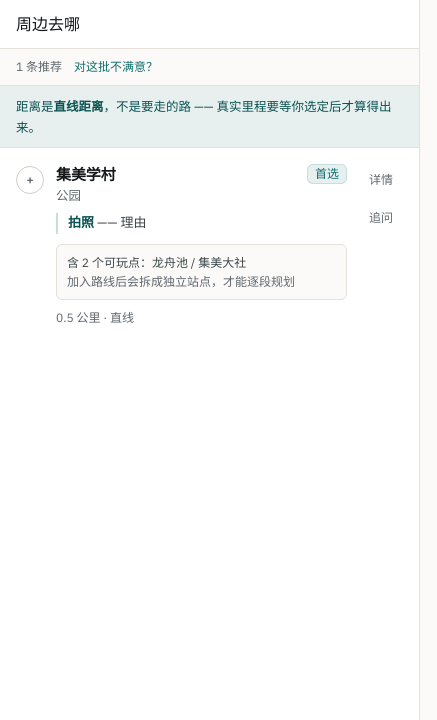
Test: 结果页 · 细化 › 细化后按钮消失，不会再点第二次
Click the button named "选择 集美学村" at (30, 180), box [16,166,44,194]
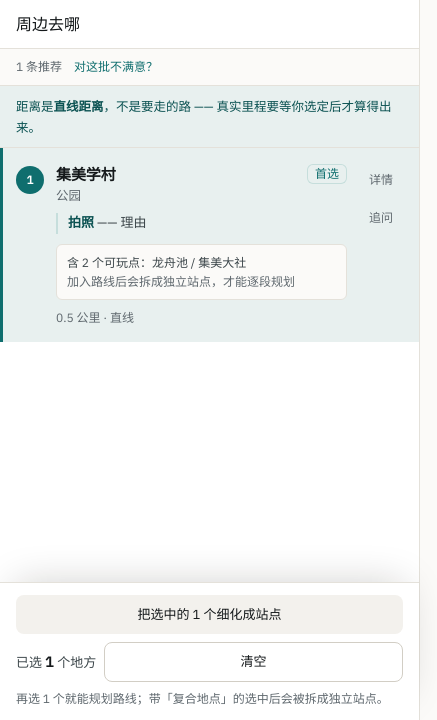
Click the button "把选中的 1 个细化成站点" at (210, 614), box [16,594,403,634]
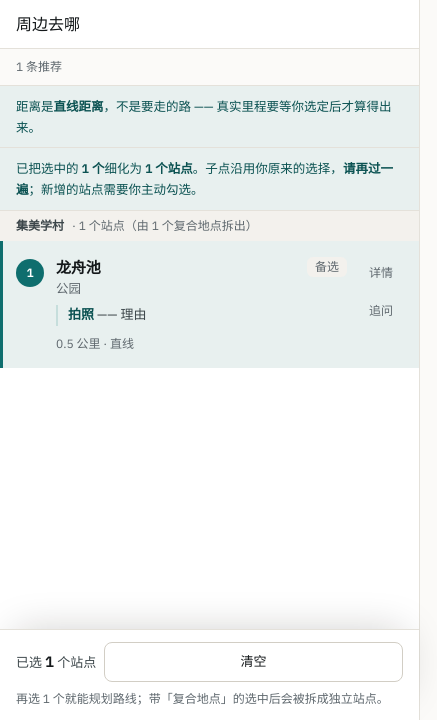
Result: the button "细化成站点" is gone
